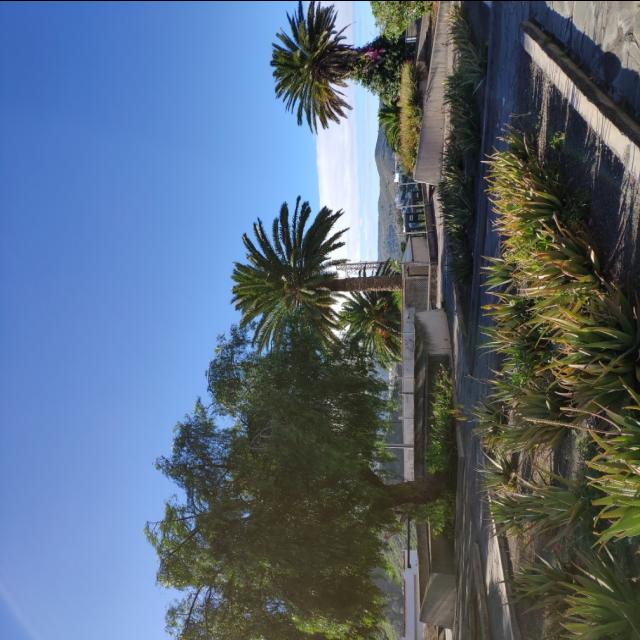Palm-Trees: (228, 186, 402, 356), (270, 0, 382, 136)
